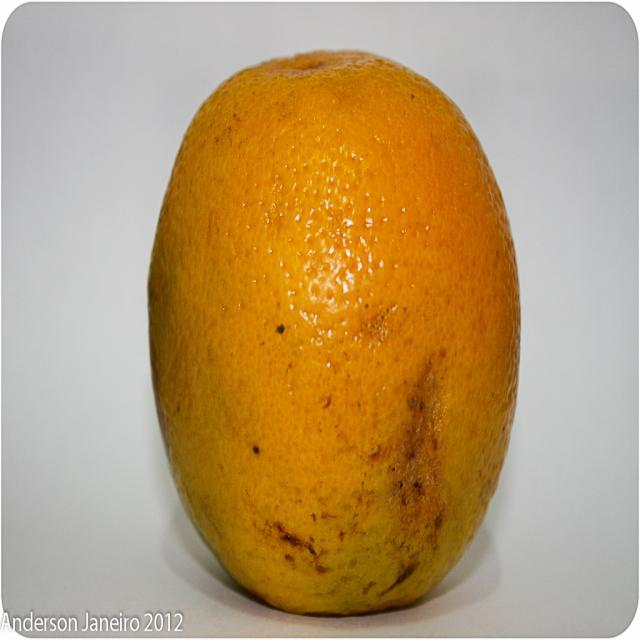Orange: (140, 52, 526, 617)
